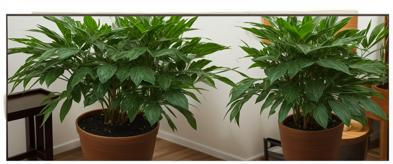pottedplant: (6, 14, 388, 160)
